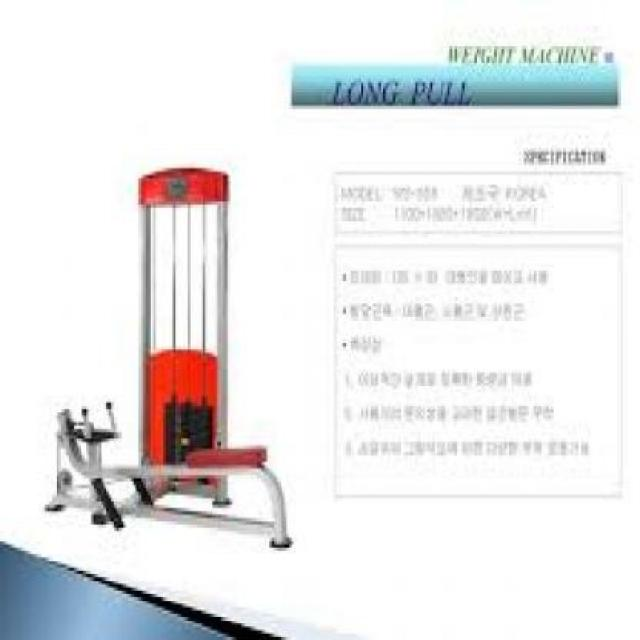Seated Cable Rows: (40, 140, 297, 562)
